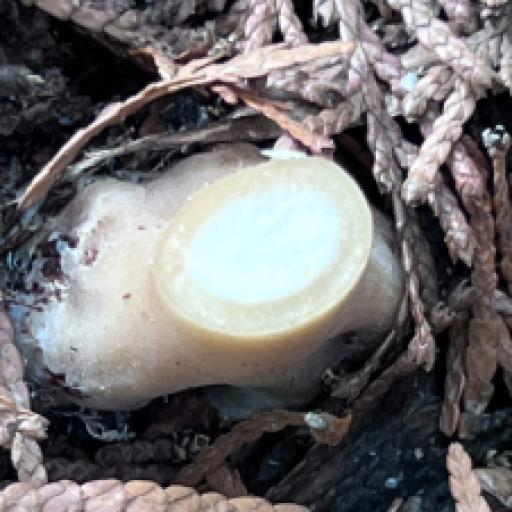mushroom: (18, 99, 432, 443)
